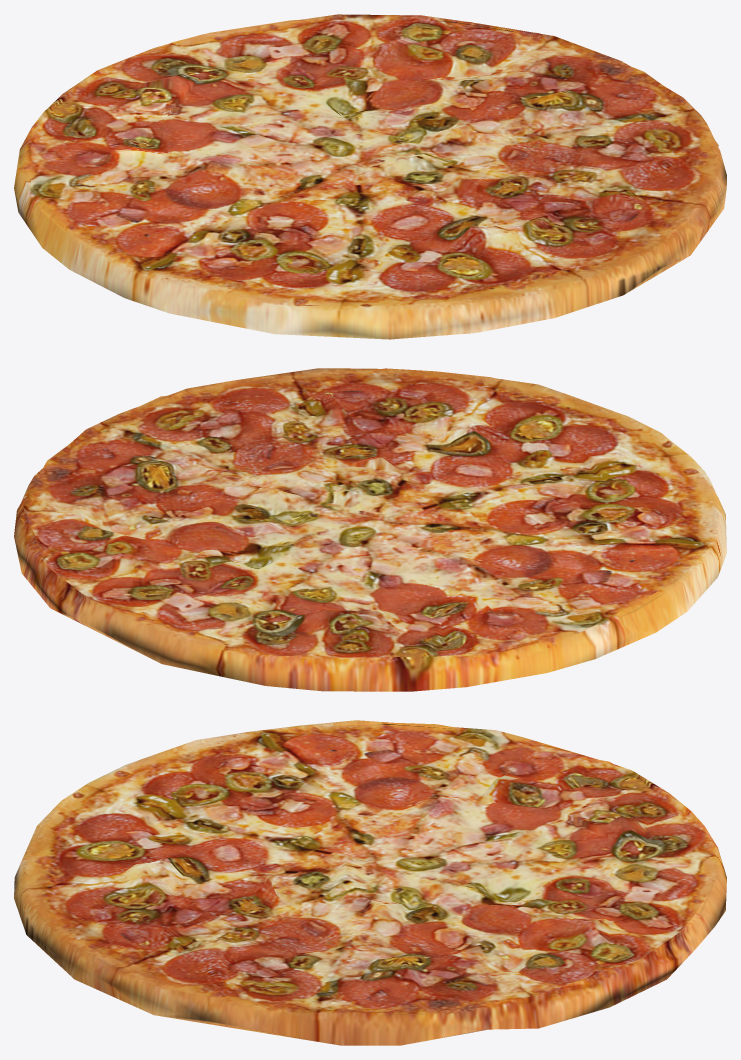
File: Pizza 1.FBX
The picture shows the model from 3 angles, top to bottom: view 1: azimuth 30°, elevation 25°; view 2: azimuth 150°, elevation 25°; view 3: azimuth 270°, elevation 25°; orthographic projection.
Parts seen in each view (by area): view 1: pizza 1; view 2: pizza 1; view 3: pizza 1.
Part boxes in pixels (x1,y1,x2,y2): pizza 1: (14, 14, 726, 339); pizza 1: (14, 368, 726, 691); pizza 1: (14, 720, 726, 1045).
Size of the model in its own units: 59.91 by 3.66 by 59.94.
Materials: 1 (1 with a texture image).
